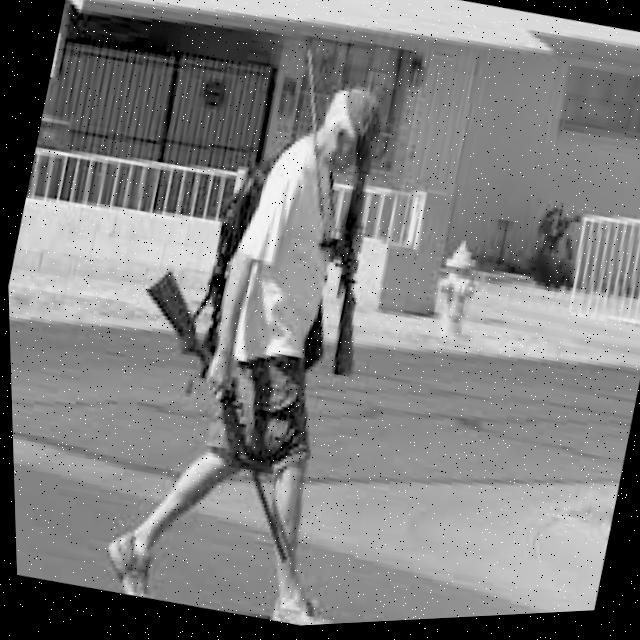firearm: (86, 259, 343, 576), (303, 145, 402, 385)
